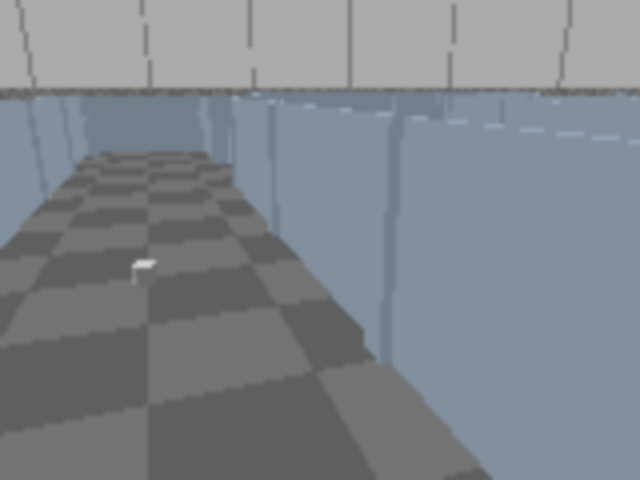puck: (134, 260, 155, 287)
